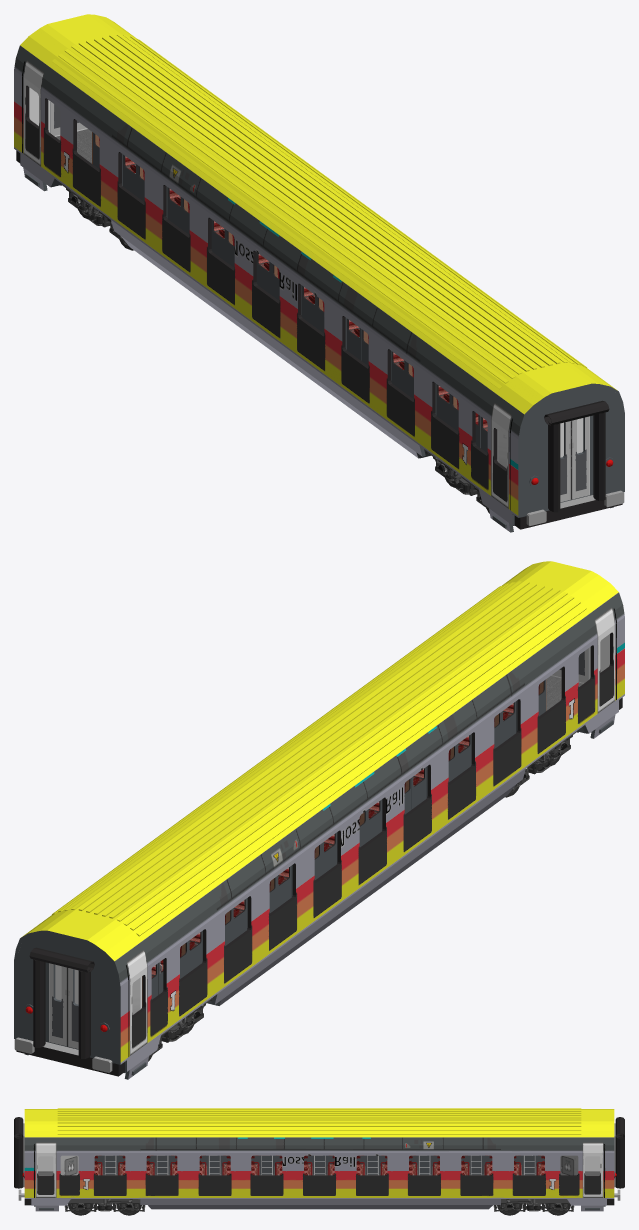
Rendered from mrwcoach.obj.
The picture shows the model from 3 angles, top to bottom: view 1: azimuth 30°, elevation 25°; view 2: azimuth 150°, elevation 25°; view 3: azimuth 270°, elevation 25°; orthographic projection. The views are drawn at different scales.
Parts seen in each view (by area): view 1: side, jibung, back, insidedoor, tongromak, backdoor, DT71, door_RB, door_RF, wall, habu2, tongilchair; view 2: side, jibung, back, insidedoor, tongromak, backdoor, DT71, door_RF, door_RB, wall, habu2, tongilchair; view 3: side, jibung, insidedoor, bed, DT71, tongilchair, tongromak, door_LB, door_LF, wall, badak, door_RB (+2 smaller).
Boxes of the visible parts, x1=… form: side: x1=14, y1=45, x2=624, y2=532; jibung: x1=20, y1=14, x2=617, y2=414; back: x1=522, y1=383, x2=621, y2=516; insidedoor: x1=93, y1=132, x2=487, y2=452; tongromak: x1=544, y1=400, x2=609, y2=512; backdoor: x1=50, y1=102, x2=589, y2=502; DT71: x1=60, y1=184, x2=489, y2=513; door_RB: x1=23, y1=77, x2=41, y2=180; door_RF: x1=491, y1=419, x2=508, y2=522; wall: x1=92, y1=132, x2=583, y2=468; habu2: x1=16, y1=151, x2=622, y2=529; tongilchair: x1=99, y1=138, x2=487, y2=429; side: x1=14, y1=592, x2=624, y2=1079; jibung: x1=21, y1=561, x2=618, y2=961; back: x1=17, y1=930, x2=116, y2=1063; insidedoor: x1=151, y1=679, x2=545, y2=999; tongromak: x1=29, y1=947, x2=94, y2=1058; backdoor: x1=49, y1=648, x2=588, y2=1048; DT71: x1=148, y1=731, x2=578, y2=1061; door_RF: x1=597, y1=624, x2=615, y2=726; door_RB: x1=129, y1=966, x2=147, y2=1069; wall: x1=55, y1=679, x2=546, y2=1014; habu2: x1=16, y1=697, x2=622, y2=1076; tongilchair: x1=151, y1=684, x2=539, y2=975; side: x1=24, y1=1137, x2=614, y2=1211; jibung: x1=24, y1=1108, x2=614, y2=1137; insidedoor: x1=94, y1=1155, x2=544, y2=1174; bed: x1=94, y1=1155, x2=544, y2=1175; DT71: x1=64, y1=1199, x2=574, y2=1215; tongilchair: x1=94, y1=1156, x2=544, y2=1175; tongromak: x1=14, y1=1117, x2=624, y2=1188; door_LB: x1=582, y1=1153, x2=603, y2=1210; door_LF: x1=35, y1=1153, x2=56, y2=1205; wall: x1=60, y1=1155, x2=578, y2=1175; badak: x1=38, y1=1171, x2=600, y2=1175; door_RB: x1=585, y1=1156, x2=600, y2=1171.
Bounding box in the file's own units: 2.87 × 4.01 × 23.98.
18 materials, 18 textured.
